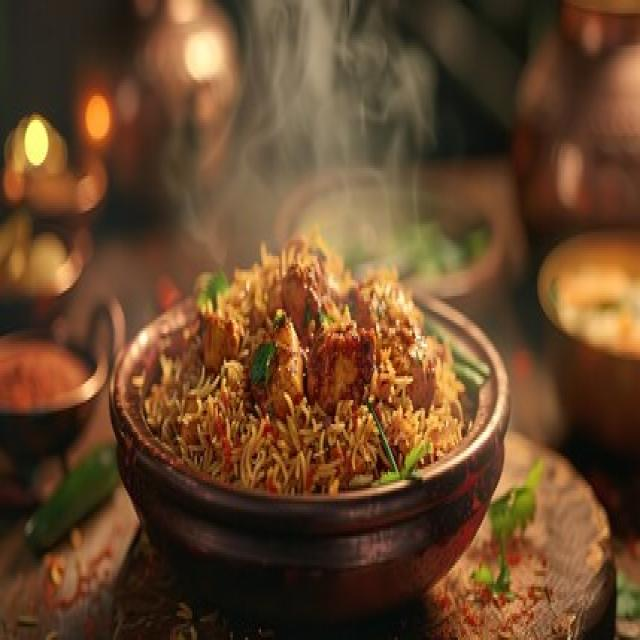BIRIYANI: (126, 242, 470, 488)
